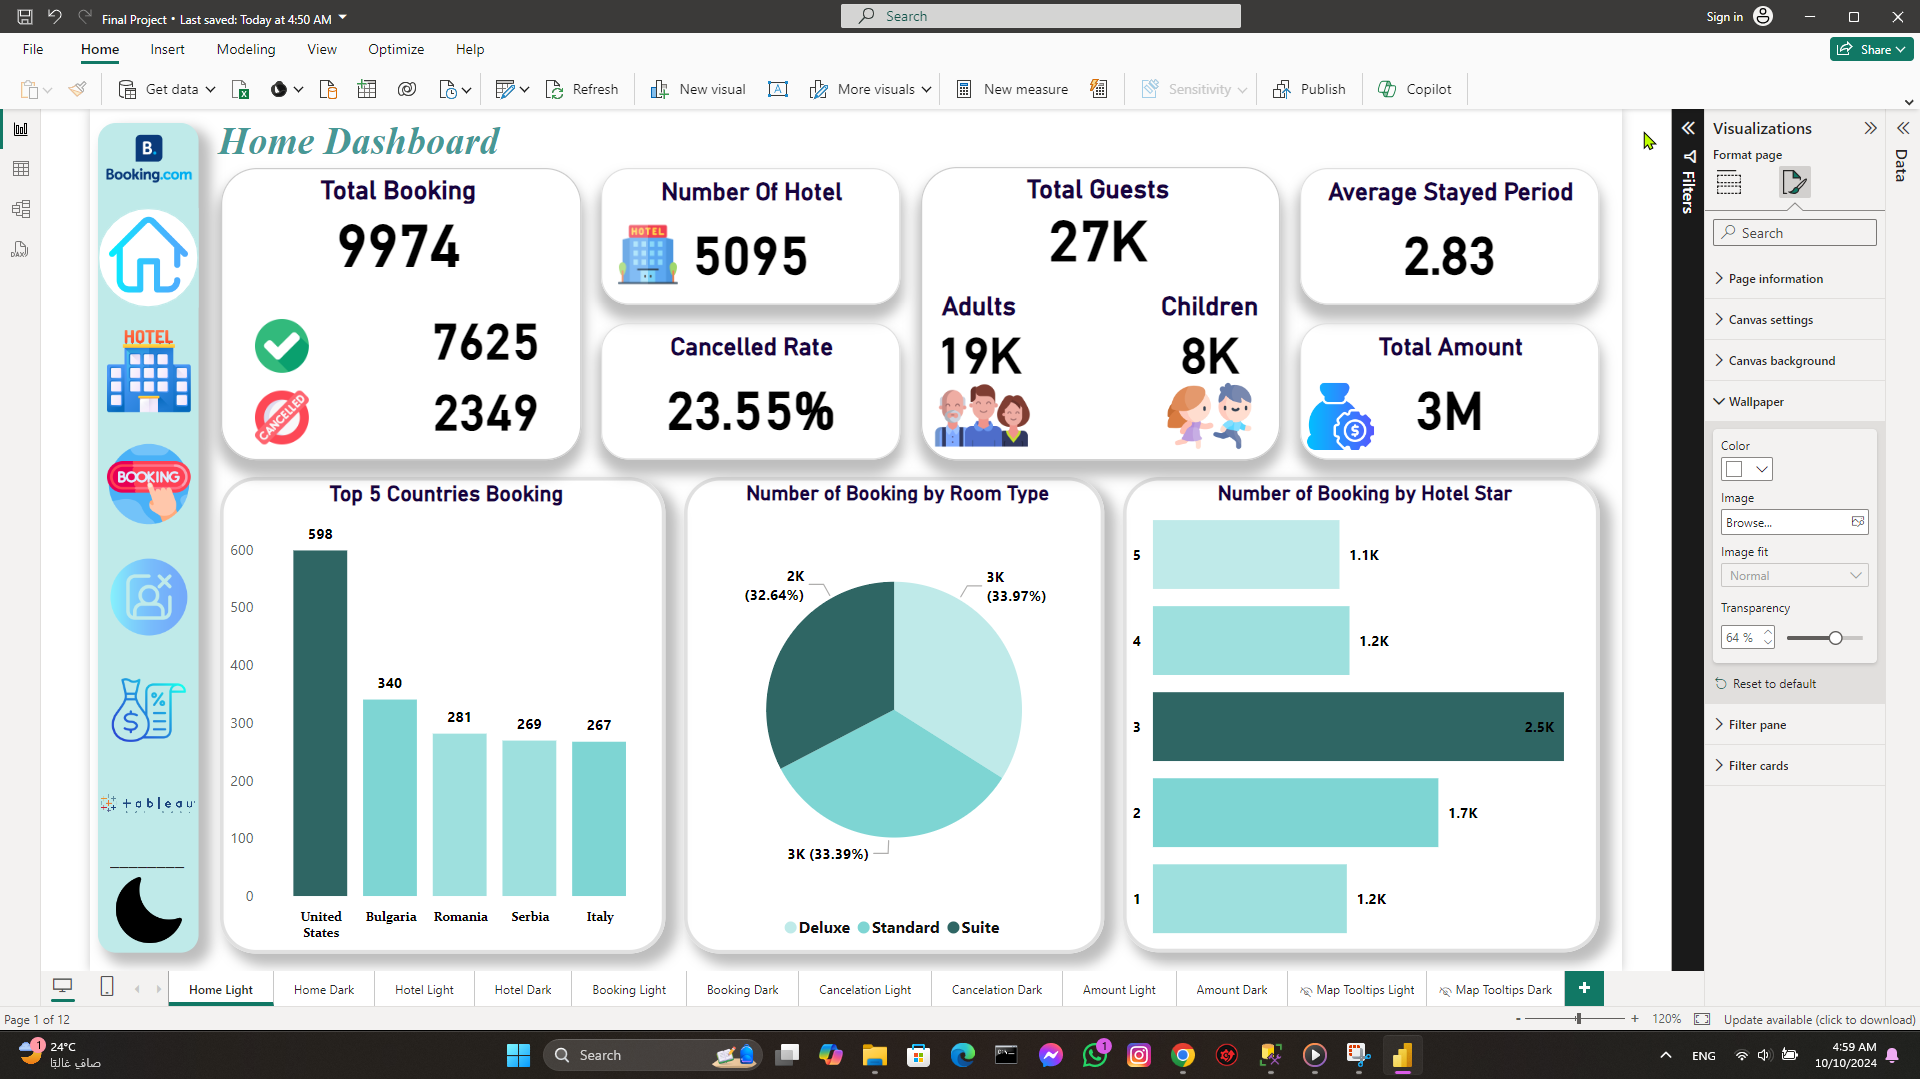

This screenshot's page, from the dashboard's own definition file:
{"tool":"tableau","page":{"name":"Overview Dashboard","canvas":[1450,830],"ordinal":3},"visuals":[{"type":"image","param":"Image/OverView.jpg","box":[8,8,1434,814]},{"type":"image","param":"Image/choose.png","box":[87,29,47,39]},{"type":"text","box":[474,34,273,34]},{"type":"text","box":[62,72,100,30]},{"type":"worksheet","title":"Top 5 nationality( Guest) (3)","mark":"Pie","box":[848,89,564,364]},{"type":"image","param":"Image/hotel.png","box":[490,104,41,40]},{"type":"image","param":"Image/revenue.png","box":[684,104,43,41]},{"type":"image","param":"Image/booking.png","box":[299,105,38,43]},{"type":"worksheet","title":"Total Amount over Bookings (Booking) (2)","mark":"Automatic","box":[625,113,167,94]},{"type":"worksheet","title":"No. Hotels (Hotel) (2)","mark":"Automatic","box":[445,123,135,69]},{"type":"worksheet","title":"No. Booking (Booking) (2)","mark":"Automatic","box":[253,129,132,63]},{"type":"dashboard-object","box":[27,137,174,52]},{"type":"image","param":"Image/children.png","box":[681,211,52,49]},{"type":"worksheet","title":"Total Children(Booking) (2)","mark":"Automatic","box":[634,212,143,118]},{"type":"image","param":"Image/couple.png","box":[485,213,54,51]},{"type":"image","param":"Image/guests.png","box":[297,214,48,49]},{"type":"dashboard-object","box":[27,215,174,47]},{"type":"worksheet","title":"No. Guests (Guest) (2)","mark":"Automatic","box":[251,231,140,85]},{"type":"worksheet","title":"Total Audlts (Booking) (2)","mark":"Automatic","box":[432,234,162,79]},{"type":"dashboard-object","box":[27,291,174,47]},{"type":"image","param":"Image/schedule.png","box":[382,343,46,47]},{"type":"image","param":"Image/rating.png","box":[606,346,44,43]},{"type":"worksheet","title":"sum of total night (Booking) (2)","mark":"Automatic","box":[336,363,140,69]},{"type":"dashboard-object","box":[27,366,174,47]},{"type":"worksheet","title":"No. Reviews (Review) (2)","mark":"Automatic","box":[535,366,188,71]},{"type":"dashboard-object","box":[27,448,174,47]},{"type":"worksheet","title":"No. Booking By Reservation Source ","mark":"Pie","rows":["Calculation_673288202718617603","Calculation_673288202718617603"],"box":[858,459,548,351]},{"type":"worksheet","title":"Top Hotel Booked By Guests ","mark":"Automatic","rows":["hotel_name"],"cols":["Guest_id_BK"],"box":[246,463,537,336]},{"type":"blank","box":[51,521,123,2]},{"type":"text","box":[76,527,92,34]},{"type":"dashboard-object","box":[69,579,76,39]},{"type":"dashboard-object","box":[117,580,91,39]},{"type":"blank","box":[51,637,123,2]},{"type":"text","box":[47,645,144,25]},{"type":"image","param":"Image/Microsoft-Power-BI-Symbol.png","box":[74,685,77,62]}]}

Visuals, with their boxes on the page's 1450x830 design canvas (x1, y1, x2, y2). These are canvas units, not pixel positions in the 1920x1079 screenshot, which may show the page scaled, cropped or inside an application window:
image: l=8, t=8, r=1442, b=822
image: l=87, t=29, r=134, b=68
text: l=474, t=34, r=747, b=68
text: l=62, t=72, r=162, b=102
"Top 5 nationality( Guest) (3)" worksheet (Pie marks): l=848, t=89, r=1412, b=453
image: l=490, t=104, r=531, b=144
image: l=684, t=104, r=727, b=145
image: l=299, t=105, r=337, b=148
"Total Amount over Bookings (Booking) (2)" worksheet: l=625, t=113, r=792, b=207
"No. Hotels (Hotel) (2)" worksheet: l=445, t=123, r=580, b=192
"No. Booking (Booking) (2)" worksheet: l=253, t=129, r=385, b=192
dashboard-object: l=27, t=137, r=201, b=189
image: l=681, t=211, r=733, b=260
"Total Children(Booking) (2)" worksheet: l=634, t=212, r=777, b=330
image: l=485, t=213, r=539, b=264
image: l=297, t=214, r=345, b=263
dashboard-object: l=27, t=215, r=201, b=262
"No. Guests (Guest) (2)" worksheet: l=251, t=231, r=391, b=316
"Total Audlts (Booking) (2)" worksheet: l=432, t=234, r=594, b=313
dashboard-object: l=27, t=291, r=201, b=338
image: l=382, t=343, r=428, b=390
image: l=606, t=346, r=650, b=389
"sum of total night (Booking) (2)" worksheet: l=336, t=363, r=476, b=432
dashboard-object: l=27, t=366, r=201, b=413
"No. Reviews (Review) (2)" worksheet: l=535, t=366, r=723, b=437
dashboard-object: l=27, t=448, r=201, b=495
"No. Booking By Reservation Source " worksheet (Pie marks): l=858, t=459, r=1406, b=810
"Top Hotel Booked By Guests " worksheet: l=246, t=463, r=783, b=799
blank: l=51, t=521, r=174, b=523
text: l=76, t=527, r=168, b=561
dashboard-object: l=69, t=579, r=145, b=618
dashboard-object: l=117, t=580, r=208, b=619
blank: l=51, t=637, r=174, b=639
text: l=47, t=645, r=191, b=670
image: l=74, t=685, r=151, b=747
